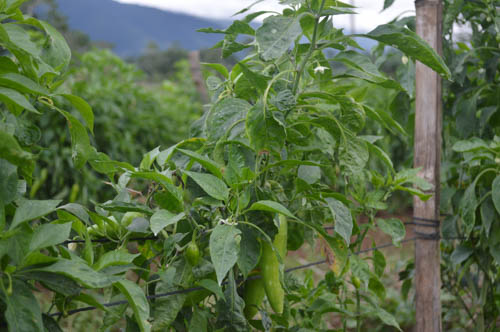ChiliPepper: (257, 213, 297, 315), (237, 265, 266, 318)
